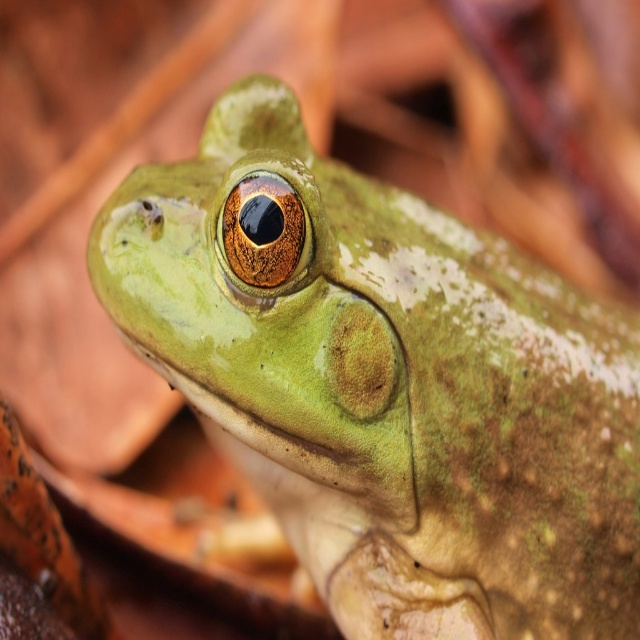Frog: (84, 72, 640, 639)
